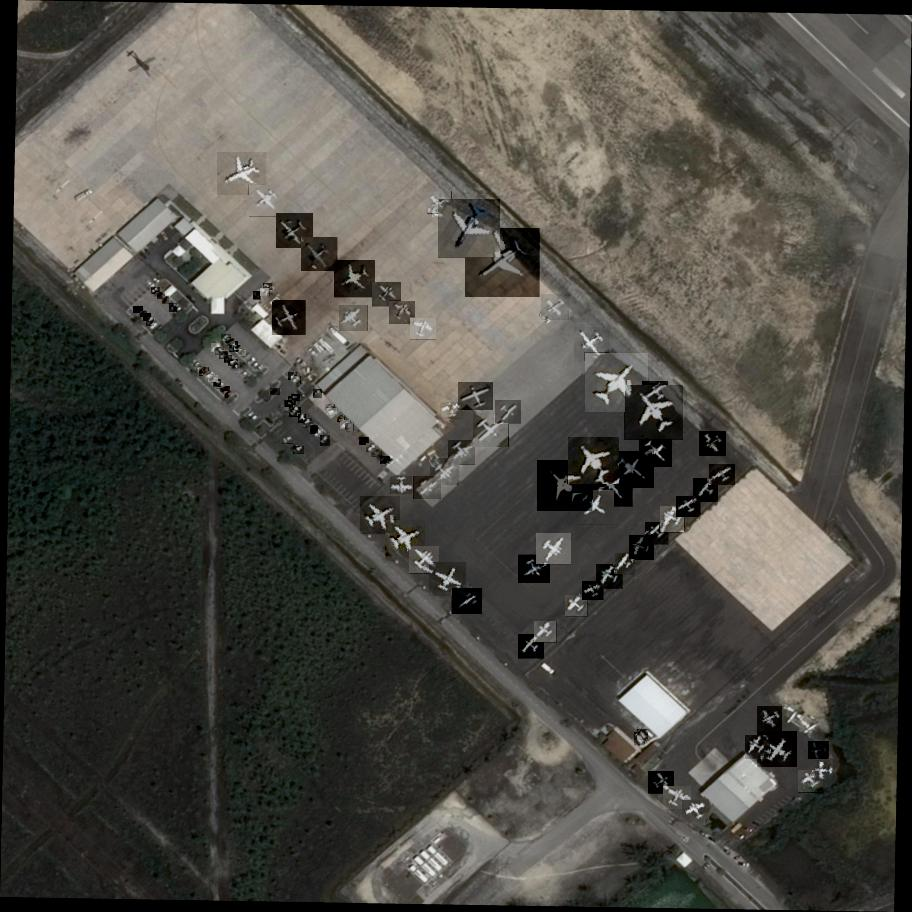plane: (465, 226, 540, 301), (585, 350, 649, 414), (438, 197, 500, 261), (625, 382, 684, 443), (538, 458, 593, 514), (569, 435, 620, 487), (217, 151, 267, 198), (613, 449, 655, 489), (594, 468, 634, 510), (335, 259, 376, 299), (757, 731, 798, 770), (361, 495, 401, 534), (385, 518, 425, 557), (575, 489, 614, 527), (277, 212, 314, 250), (302, 235, 338, 273), (474, 413, 510, 449), (537, 531, 572, 568), (575, 326, 610, 363), (430, 562, 466, 597), (273, 300, 307, 337), (639, 434, 672, 469), (249, 184, 282, 218), (458, 381, 494, 411), (518, 554, 550, 585), (409, 545, 440, 575), (452, 588, 483, 616), (431, 458, 460, 487), (541, 293, 570, 322), (339, 305, 369, 333), (373, 281, 401, 309), (596, 564, 623, 591), (642, 380, 668, 408), (700, 429, 726, 457), (660, 507, 686, 534), (449, 440, 476, 466), (663, 785, 691, 810), (414, 475, 442, 500), (757, 706, 783, 732), (495, 400, 521, 426), (630, 535, 655, 562), (519, 635, 545, 660), (649, 770, 674, 796), (694, 478, 719, 504), (390, 301, 415, 326), (427, 191, 452, 216), (682, 800, 709, 823), (645, 522, 670, 546), (798, 770, 823, 794), (746, 735, 770, 760), (709, 464, 735, 487), (410, 318, 436, 341), (676, 496, 702, 518), (535, 622, 558, 645), (566, 595, 589, 618), (389, 476, 414, 494), (582, 581, 604, 601), (616, 553, 636, 575), (815, 759, 834, 781), (441, 402, 464, 420), (809, 741, 828, 759)
small-vehicle: (634, 732, 645, 746), (638, 730, 649, 742), (290, 408, 301, 419), (340, 420, 352, 430), (320, 435, 330, 447), (303, 418, 313, 429), (366, 443, 377, 453), (199, 367, 210, 377), (203, 371, 215, 380), (307, 421, 317, 431), (222, 334, 232, 344), (359, 437, 370, 446), (371, 449, 382, 458), (298, 414, 307, 425), (294, 447, 305, 456), (313, 389, 322, 399), (325, 404, 335, 413), (310, 425, 319, 435), (380, 456, 390, 465), (211, 343, 221, 352), (215, 347, 225, 356), (232, 362, 242, 371), (288, 372, 297, 382), (291, 376, 301, 385), (327, 408, 338, 416), (282, 436, 293, 444), (231, 341, 239, 352), (170, 303, 178, 314), (259, 288, 270, 296), (285, 400, 294, 409), (315, 429, 324, 438), (291, 394, 301, 402), (220, 387, 230, 395), (346, 423, 354, 433), (270, 388, 280, 396), (224, 391, 234, 399), (147, 317, 155, 327), (220, 352, 230, 360), (208, 375, 218, 383), (157, 292, 166, 300), (253, 291, 261, 300), (213, 379, 221, 388), (224, 355, 233, 363), (196, 364, 205, 372), (289, 396, 296, 406), (133, 307, 143, 314), (338, 415, 346, 423), (162, 297, 170, 305), (227, 338, 235, 346), (151, 287, 160, 294), (216, 383, 225, 390), (144, 313, 151, 322), (264, 283, 273, 290), (228, 360, 238, 366), (235, 345, 243, 352), (240, 350, 247, 357), (141, 311, 147, 319)
